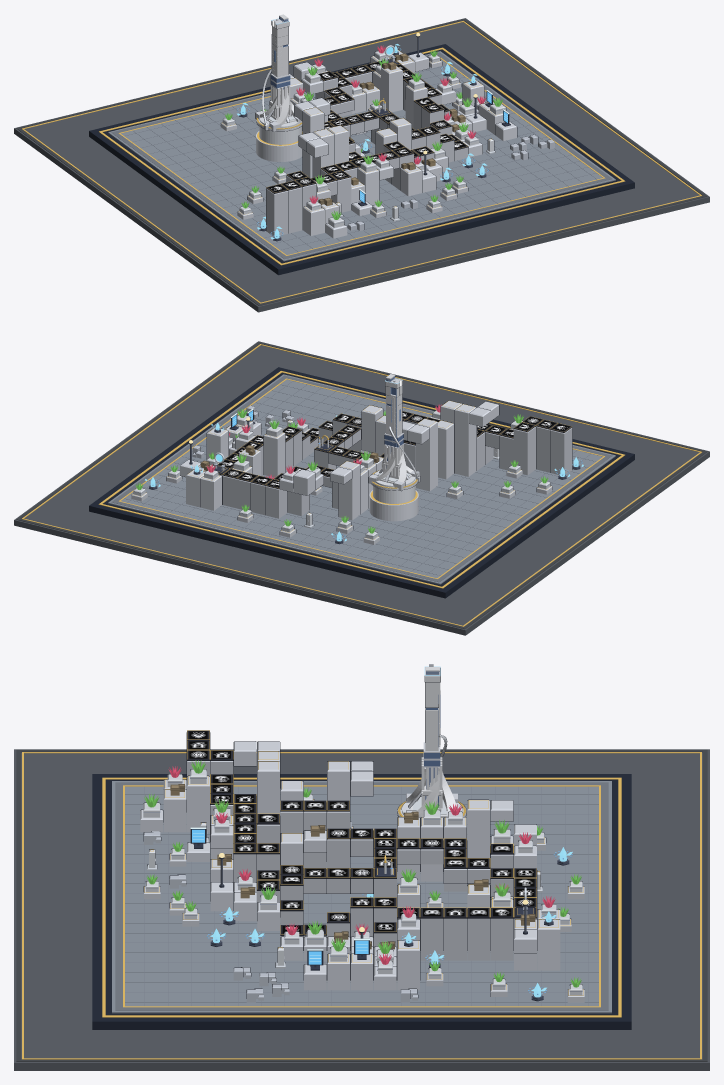
File: board_scene.glb
3 views of the same model, one above another, from view 1: azimuth 30°, elevation 25°; view 2: azimuth 150°, elevation 25°; view 3: azimuth 270°, elevation 25° (orthographic). The views are drawn at different scales.
Parts seen in each view (by area): view 1: misc_plat2, tower_floor, misc_tray, misc_plat2e_0, misc_fedge_0, misc_plat2e_1, route_0_2_col0, misc_plat2e_2, misc_plat2e_3, misc_fedge_2, terrain_15_14_d15_14, misc_trayg_0 (+20 smaller); view 2: misc_plat2, tower_floor, misc_tray, terrain_5_5_d5_5, terrain_6_8_d6_8, misc_plat2e_1, misc_plat2e_0, misc_fedge_1, terrain_8_14_d8_14, route_0_2_col0, terrain_6_6_d6_6, terrain_15_11_d15_11 (+25 smaller); view 3: misc_plat2, tower_floor, misc_tray, misc_plat2e_3, misc_fedge_3, misc_fedge_1, misc_fedge_0, misc_plat2e_2, misc_plat2e_0, misc_plat2e_1, misc_trayg_3, misc_plat2g_3 (+25 smaller).
Boxes of the visible parts, left/top/right/bottom form: misc_plat2: left=14, top=18, right=709, bottom=312; tower_floor: left=108, top=51, right=615, bottom=261; misc_tray: left=89, top=44, right=634, bottom=275; misc_plat2e_0: left=258, top=195, right=707, bottom=305; misc_fedge_0: left=282, top=177, right=612, bottom=259; misc_plat2e_1: left=16, top=18, right=466, bottom=129; route_0_2_col0: left=266, top=188, right=288, bottom=236; misc_plat2e_2: left=16, top=128, right=261, bottom=305; misc_plat2e_3: left=463, top=19, right=706, bottom=196; misc_fedge_2: left=113, top=133, right=288, bottom=258; terrain_15_14_d15_14: left=381, top=66, right=402, bottom=112; misc_trayg_0: left=280, top=180, right=625, bottom=264; misc_plat2: left=14, top=341, right=709, bottom=635; tower_floor: left=108, top=374, right=615, bottom=584; misc_tray: left=89, top=367, right=634, bottom=598; terrain_5_5_d5_5: left=455, top=404, right=476, bottom=476; terrain_6_8_d6_8: left=416, top=418, right=437, bottom=491; misc_plat2e_1: left=16, top=518, right=465, bottom=629; misc_plat2e_0: left=257, top=342, right=707, bottom=452; misc_fedge_1: left=111, top=500, right=441, bottom=582; terrain_8_14_d8_14: left=338, top=461, right=360, bottom=520; route_0_2_col0: left=550, top=428, right=572, bottom=475; terrain_6_6_d6_6: left=438, top=420, right=454, bottom=479; terrain_15_11_d15_11: left=263, top=432, right=285, bottom=477; misc_plat2: left=14, top=749, right=709, bottom=1070; tower_floor: left=112, top=781, right=611, bottom=1013; misc_tray: left=92, top=774, right=631, bottom=1029; misc_plat2e_3: left=18, top=1059, right=705, bottom=1061; misc_fedge_3: left=115, top=1007, right=608, bottom=1010; misc_fedge_1: left=601, top=782, right=608, bottom=1010; misc_fedge_0: left=115, top=782, right=122, bottom=1010; misc_plat2e_2: left=16, top=749, right=706, bottom=752; misc_plat2e_0: left=16, top=749, right=20, bottom=1061; misc_plat2e_1: left=703, top=749, right=707, bottom=1061; misc_trayg_3: left=102, top=1015, right=621, bottom=1017; misc_plat2g_3: left=24, top=1058, right=699, bottom=1059.
Bounding box in the file's own units: 31.8 × 9.84 × 29.8.
76 materials, 6 textured.
